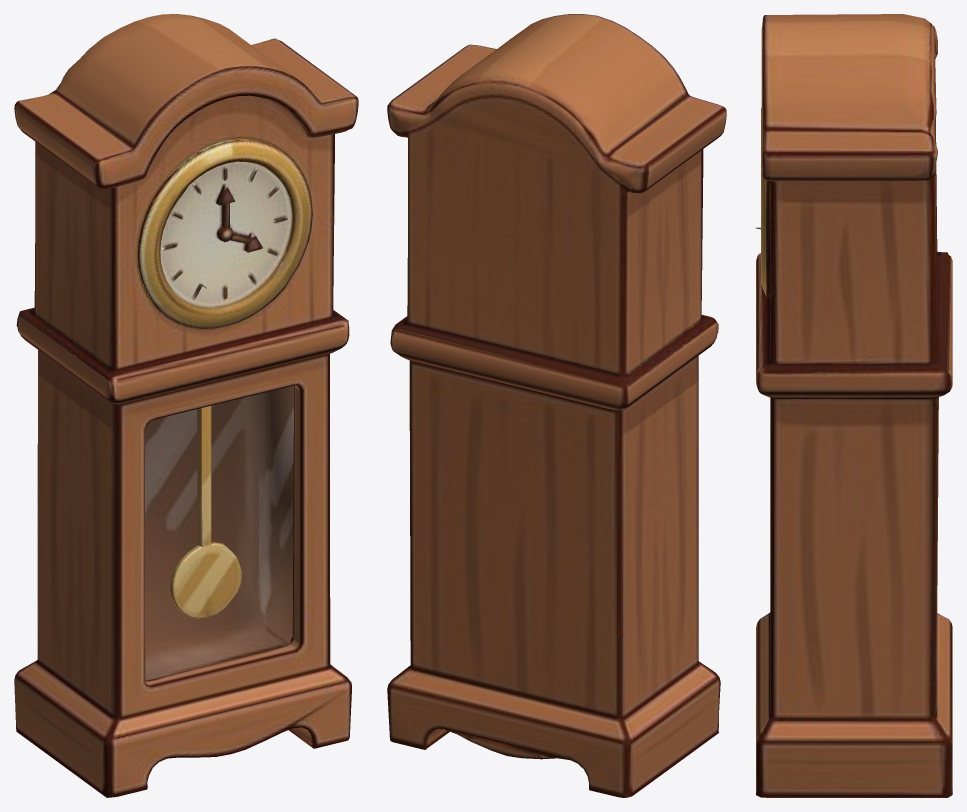
File: item-clock.glb
The picture shows the model from 3 angles, left to right: view 1: azimuth 30°, elevation 25°; view 2: azimuth 150°, elevation 25°; view 3: azimuth 270°, elevation 25°; orthographic projection. The views are drawn at different scales.
Size of the model in its own units: 0.3784 by 0.9517 by 0.2388.
1 material, 1 textured.
